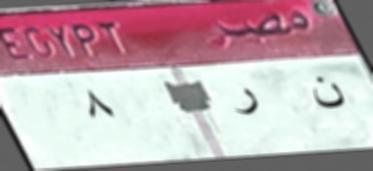8: (82, 84, 116, 131)
noon: (306, 70, 348, 120)
raa: (232, 83, 263, 121)
